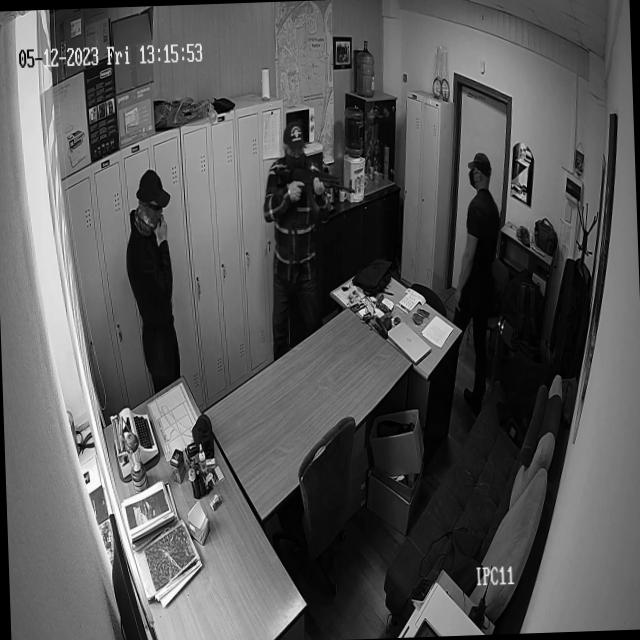gun: (276, 166, 355, 224)
person: (444, 152, 509, 423), (124, 170, 177, 394)
person with a gun: (258, 120, 359, 358)
